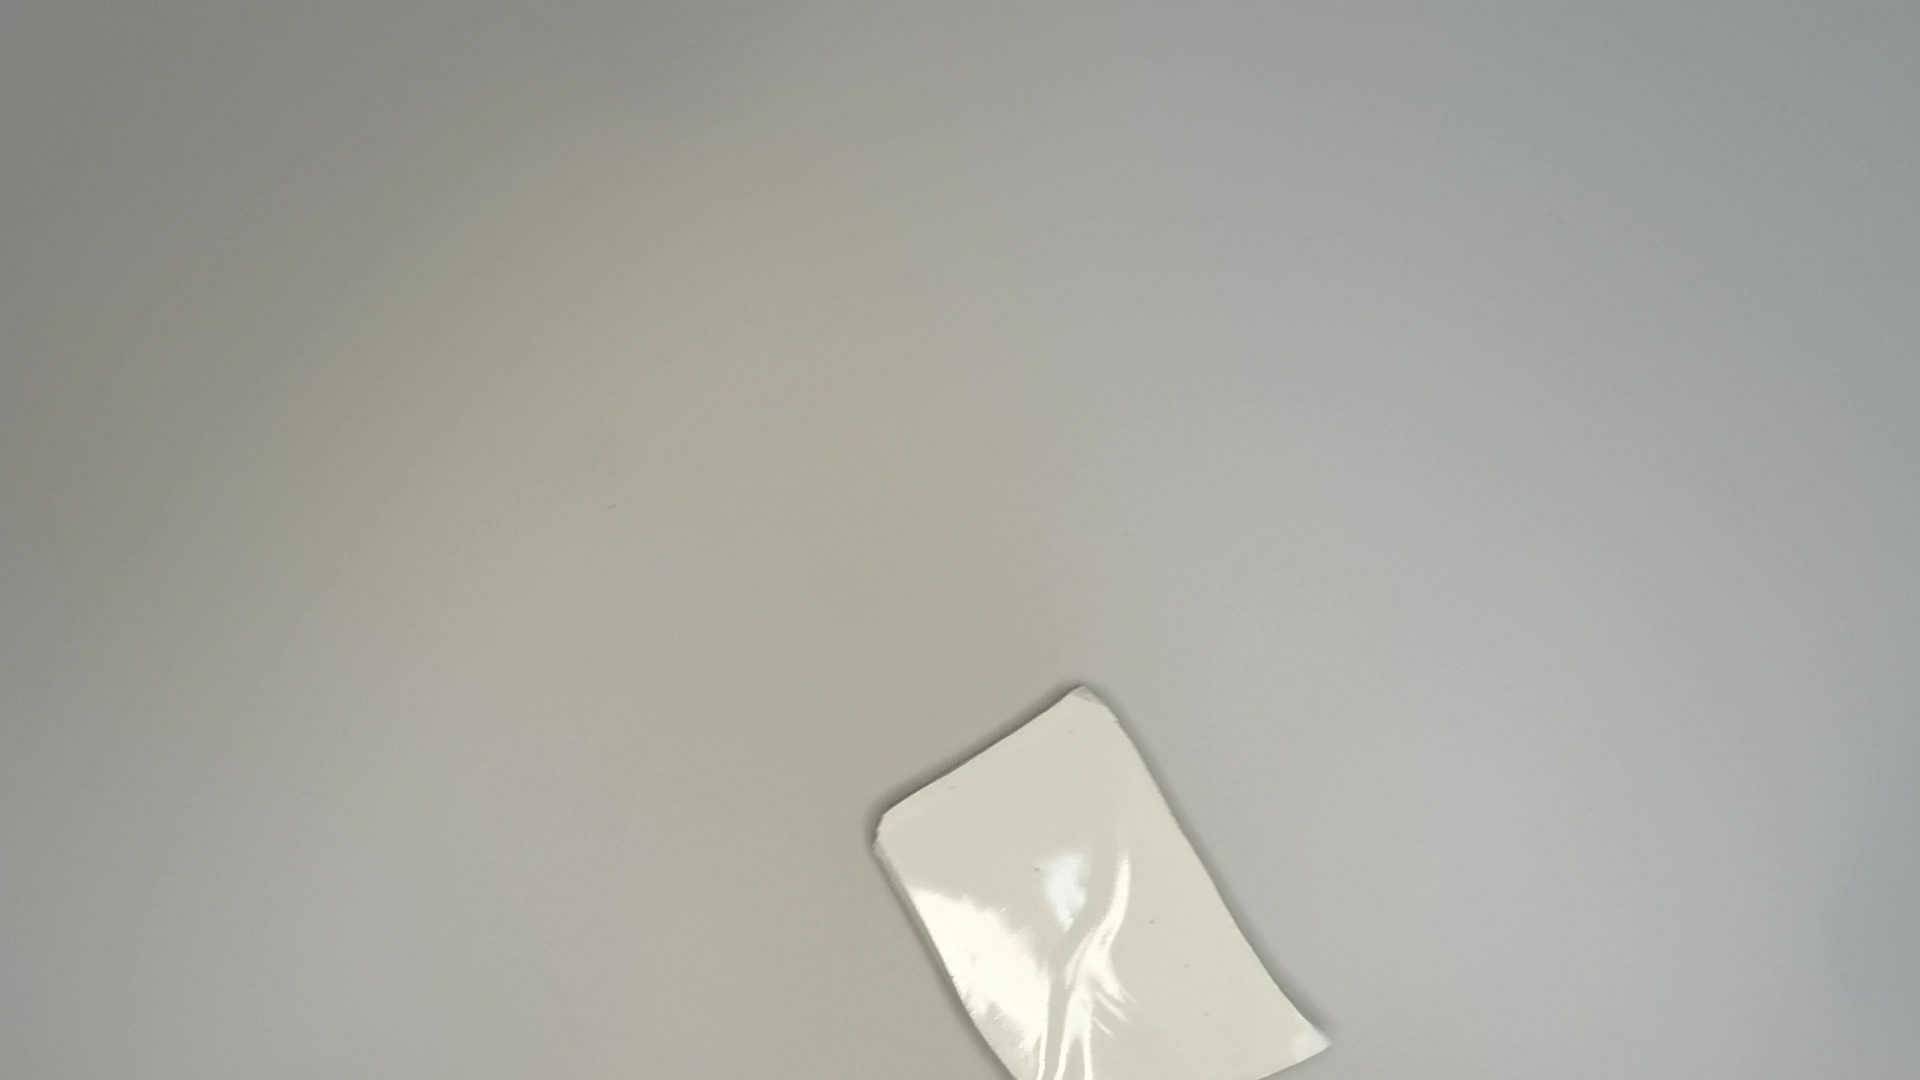ceramic: (862, 676, 1346, 1080)
